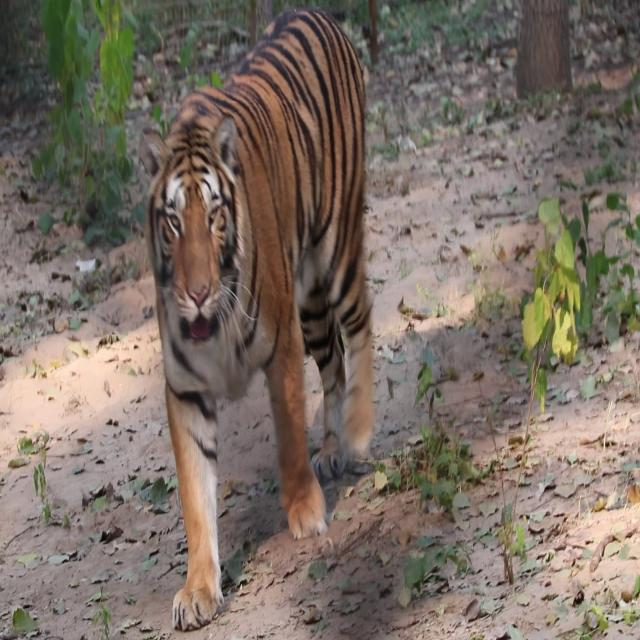Tiger: (141, 4, 427, 624)
